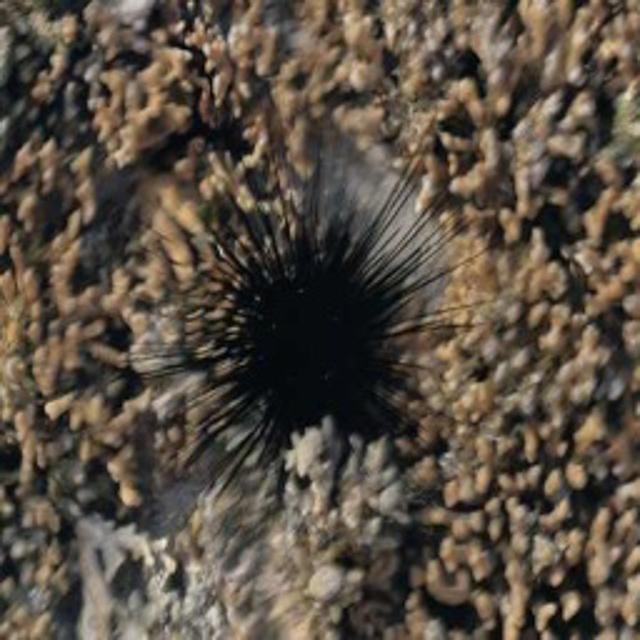Urchin: (102, 102, 498, 497)
